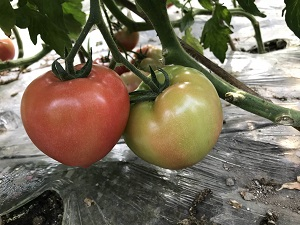mature-tomato: (20, 64, 130, 171)
semi-mature-tomato: (131, 65, 223, 170)
